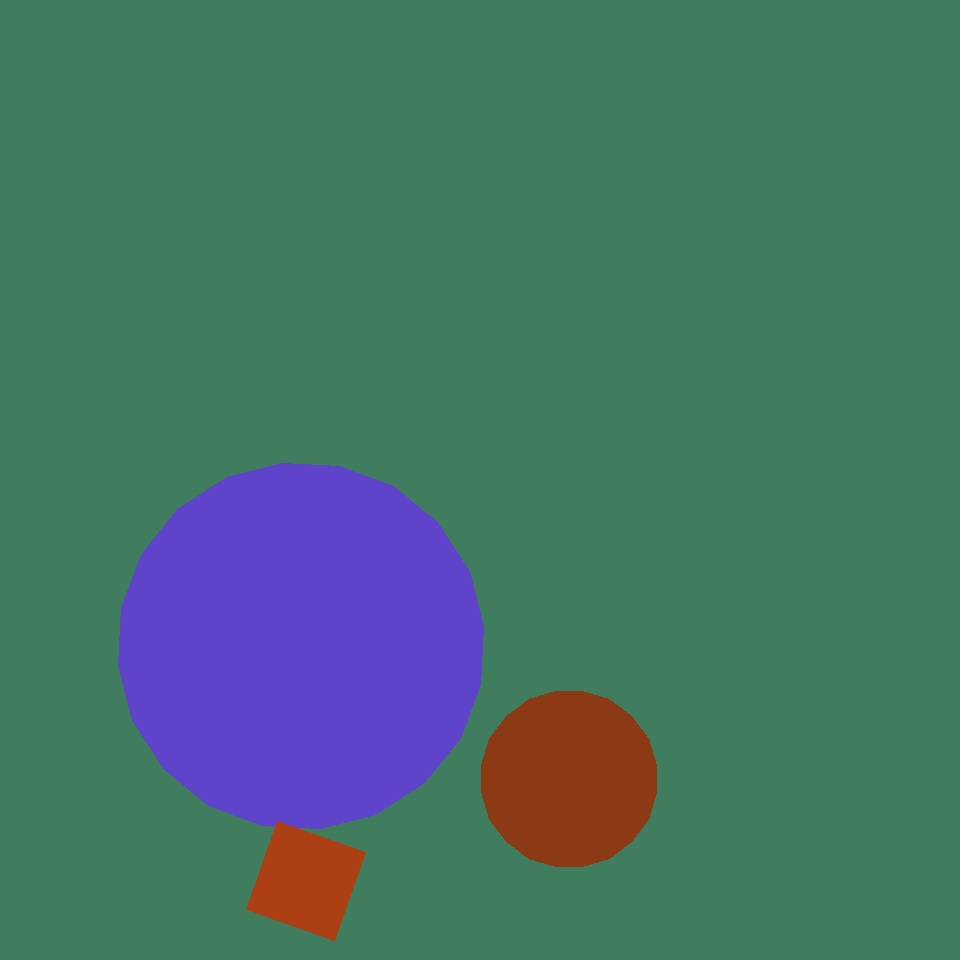circle: (561, 407, 787, 622), (632, 308, 778, 456)
square: (302, 423, 677, 798), (246, 822, 366, 940)
triangle: (118, 464, 484, 828), (481, 691, 656, 866)
